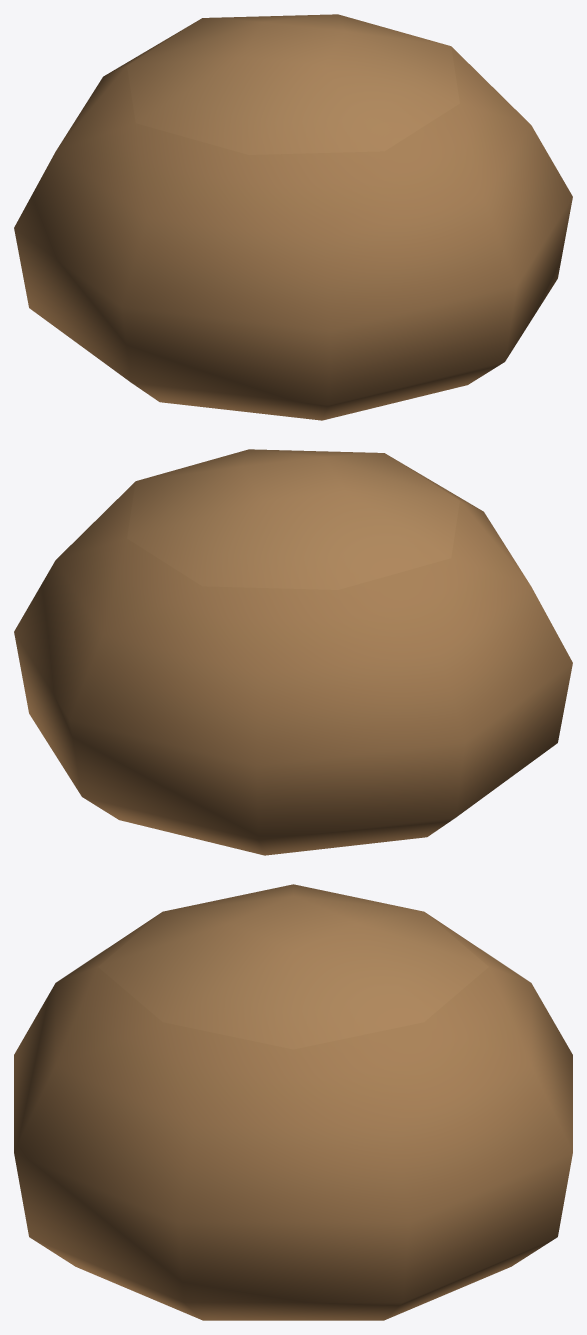
Rendered from Rock_5_B_Color5.fbx.
3 views of the same model, one above another, from view 1: azimuth 30°, elevation 25°; view 2: azimuth 150°, elevation 25°; view 3: azimuth 270°, elevation 25° (orthographic). The views are drawn at different scales.
Visible parts, largest first — view 1: Rock_5_B_Color5; view 2: Rock_5_B_Color5; view 3: Rock_5_B_Color5.
Part boxes in pixels (<box>): Rock_5_B_Color5: <box>14,14,572,420</box>; Rock_5_B_Color5: <box>14,449,572,855</box>; Rock_5_B_Color5: <box>14,884,572,1320</box>.
Bounding box in the file's own units: 0.3336 × 0.2036 × 0.3336.
